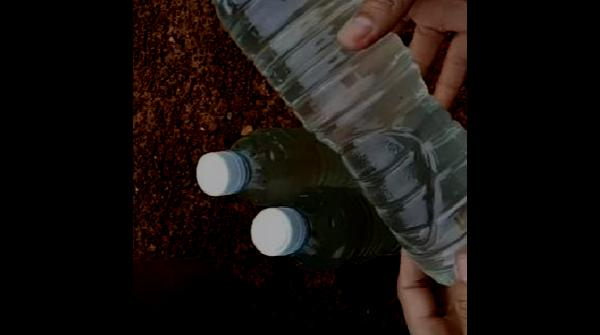bottle: (167, 0, 467, 289), (189, 118, 433, 214), (245, 179, 468, 282)
